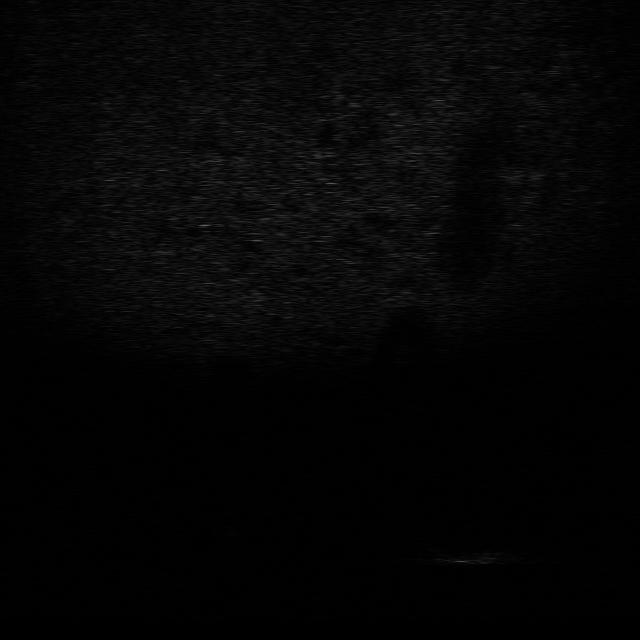ball: (198, 493, 254, 530)
metal bucket: (439, 540, 521, 568)
tyre: (402, 512, 456, 548)
